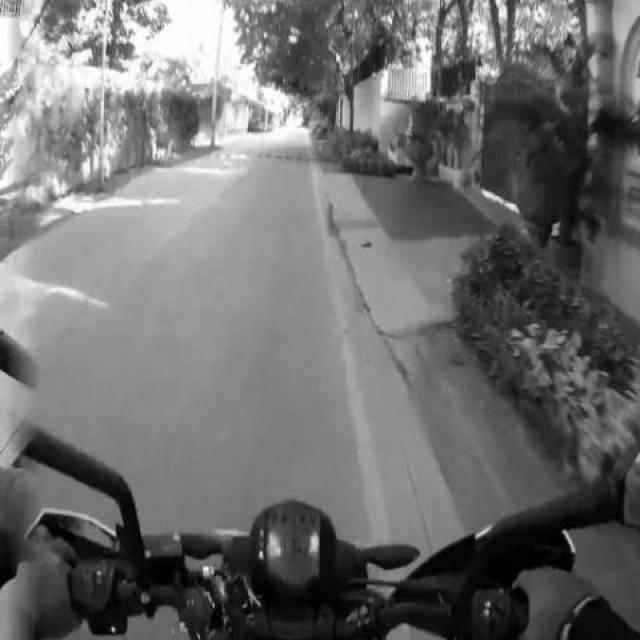Speed Bump: (200, 150, 316, 164)
